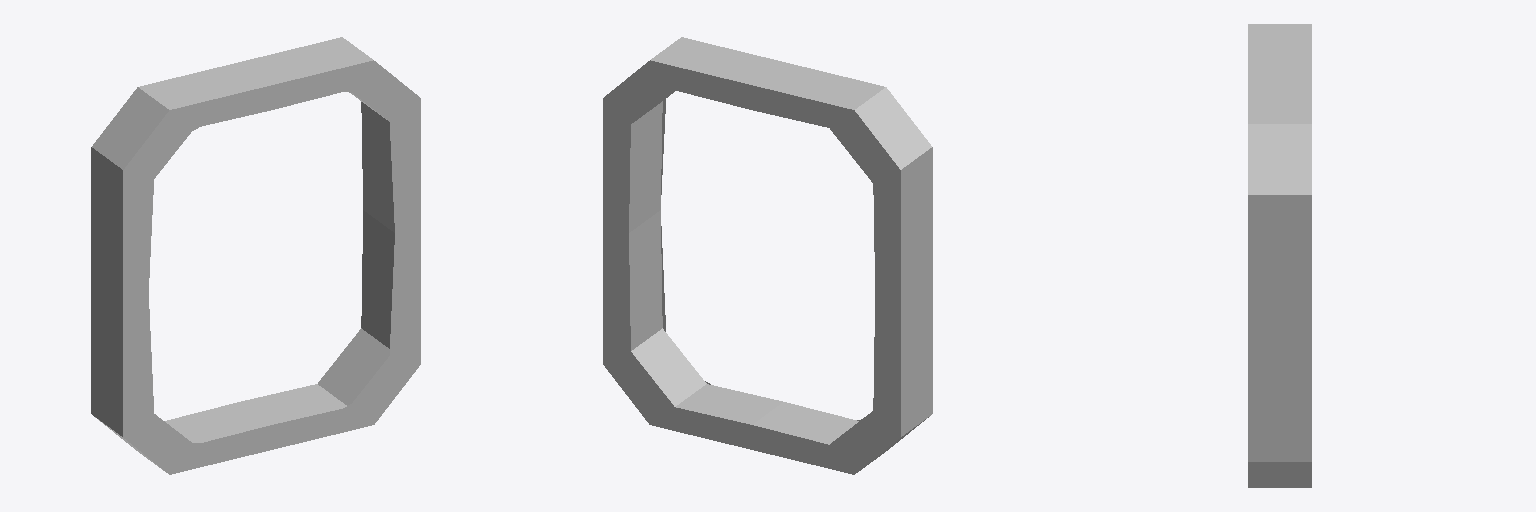
Rendered from windowframe1.obj.
The picture shows the model from 3 angles: view 1: azimuth 30°, elevation 25°; view 2: azimuth 150°, elevation 25°; view 3: azimuth 270°, elevation 25°; orthographic projection.
Parts seen in each view (by area): view 1: Cube_Cube.001; view 2: Cube_Cube.001; view 3: Cube_Cube.001.
Part boxes in pixels (x1,y1,x2,y2): Cube_Cube.001: (91,37,420,474); Cube_Cube.001: (603,37,932,474); Cube_Cube.001: (1248,24,1311,487).
Bounding box in the file's own units: 9.49 × 11.12 × 1.76.